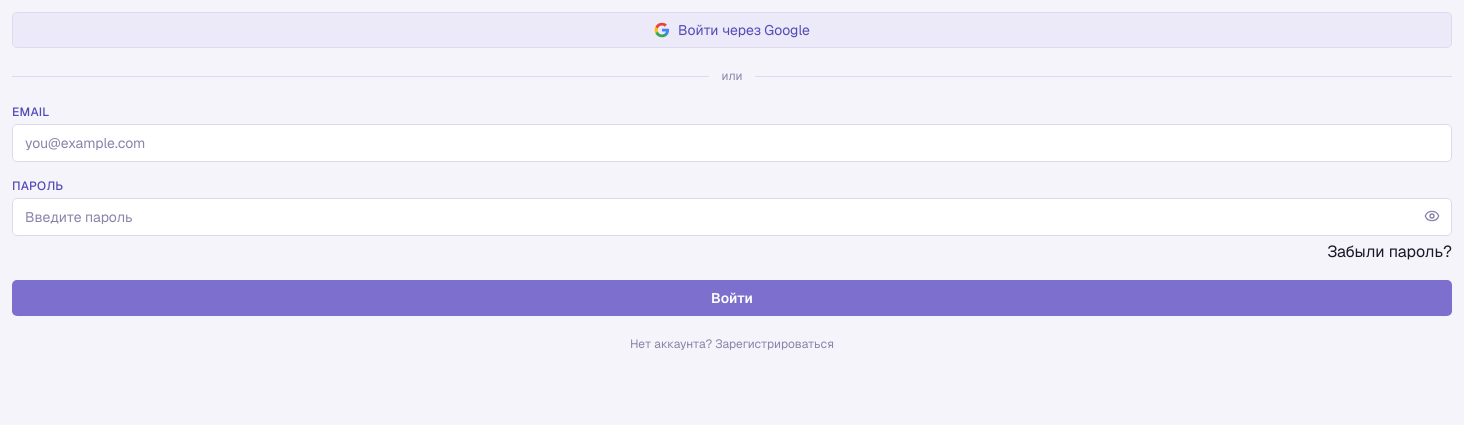
Test case: LoginForm › displays server error message on failed login
Type "user@test.com" into the field labelled "Email" at point(732, 143), box x1=12 y1=124 x2=1452 y2=162
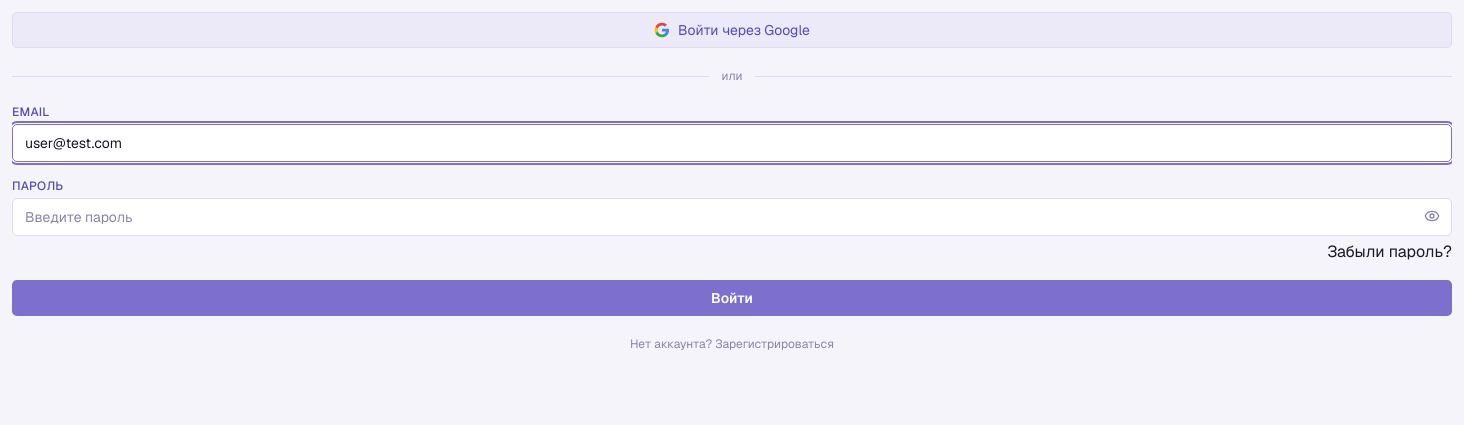
Type "password123" into the password field labelled "Пароль" at point(732, 217), box x1=12 y1=198 x2=1452 y2=236
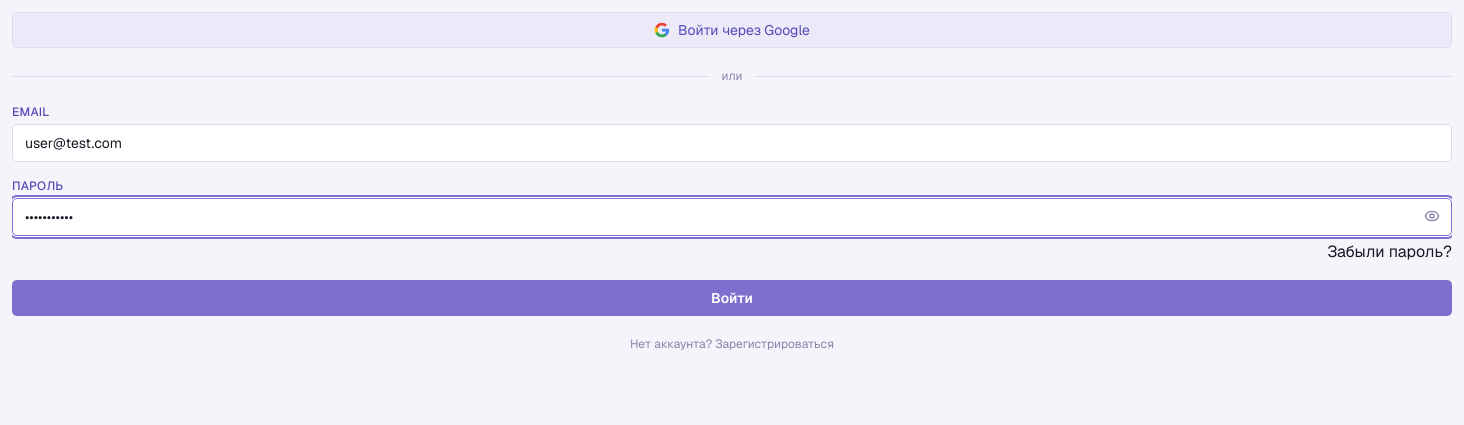
Click the button "Войти" at point(732, 298), box x1=12 y1=280 x2=1452 y2=316
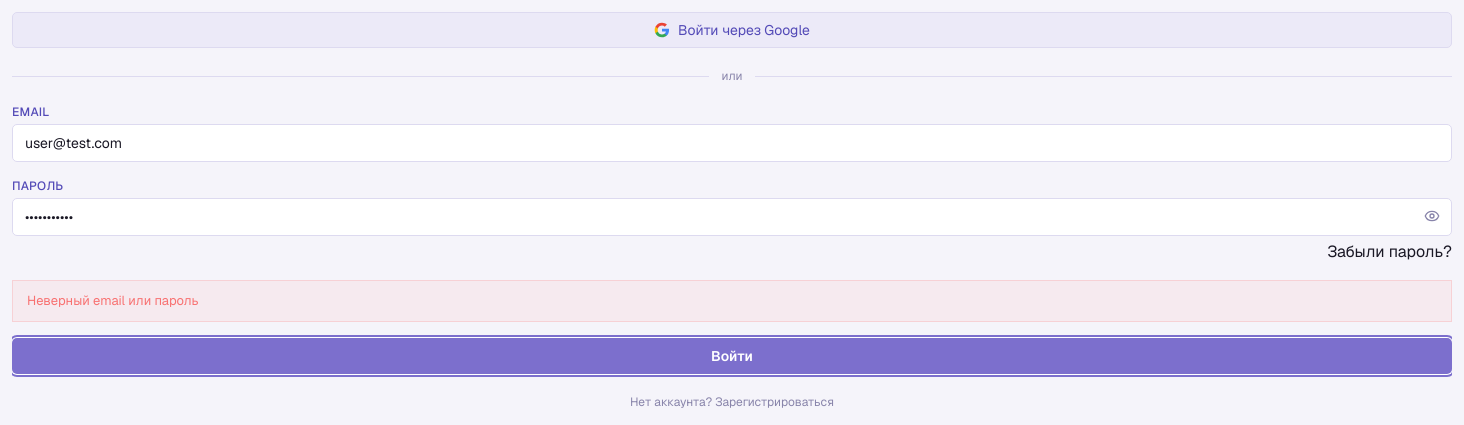
expect the text "Неверный email или пароль" is shown: met, box x1=12 y1=280 x2=1452 y2=322
